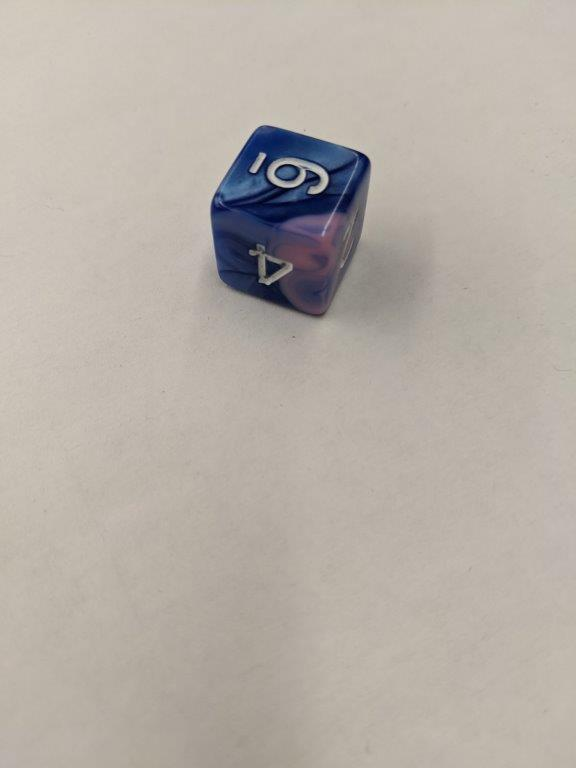d6-6: (211, 123, 371, 317)
